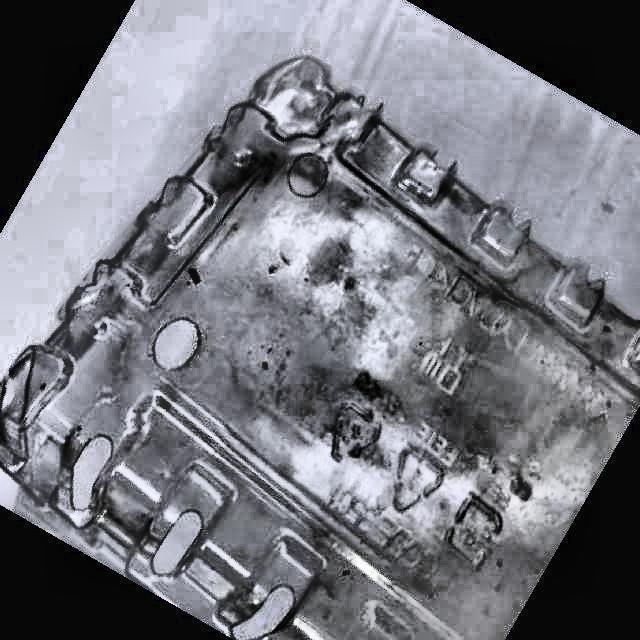plastic: (0, 56, 640, 640)
